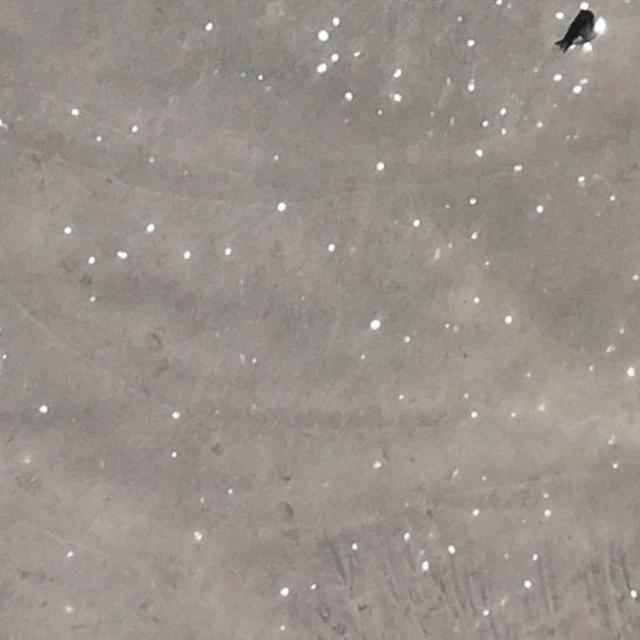umineko: (556, 16, 607, 51)
